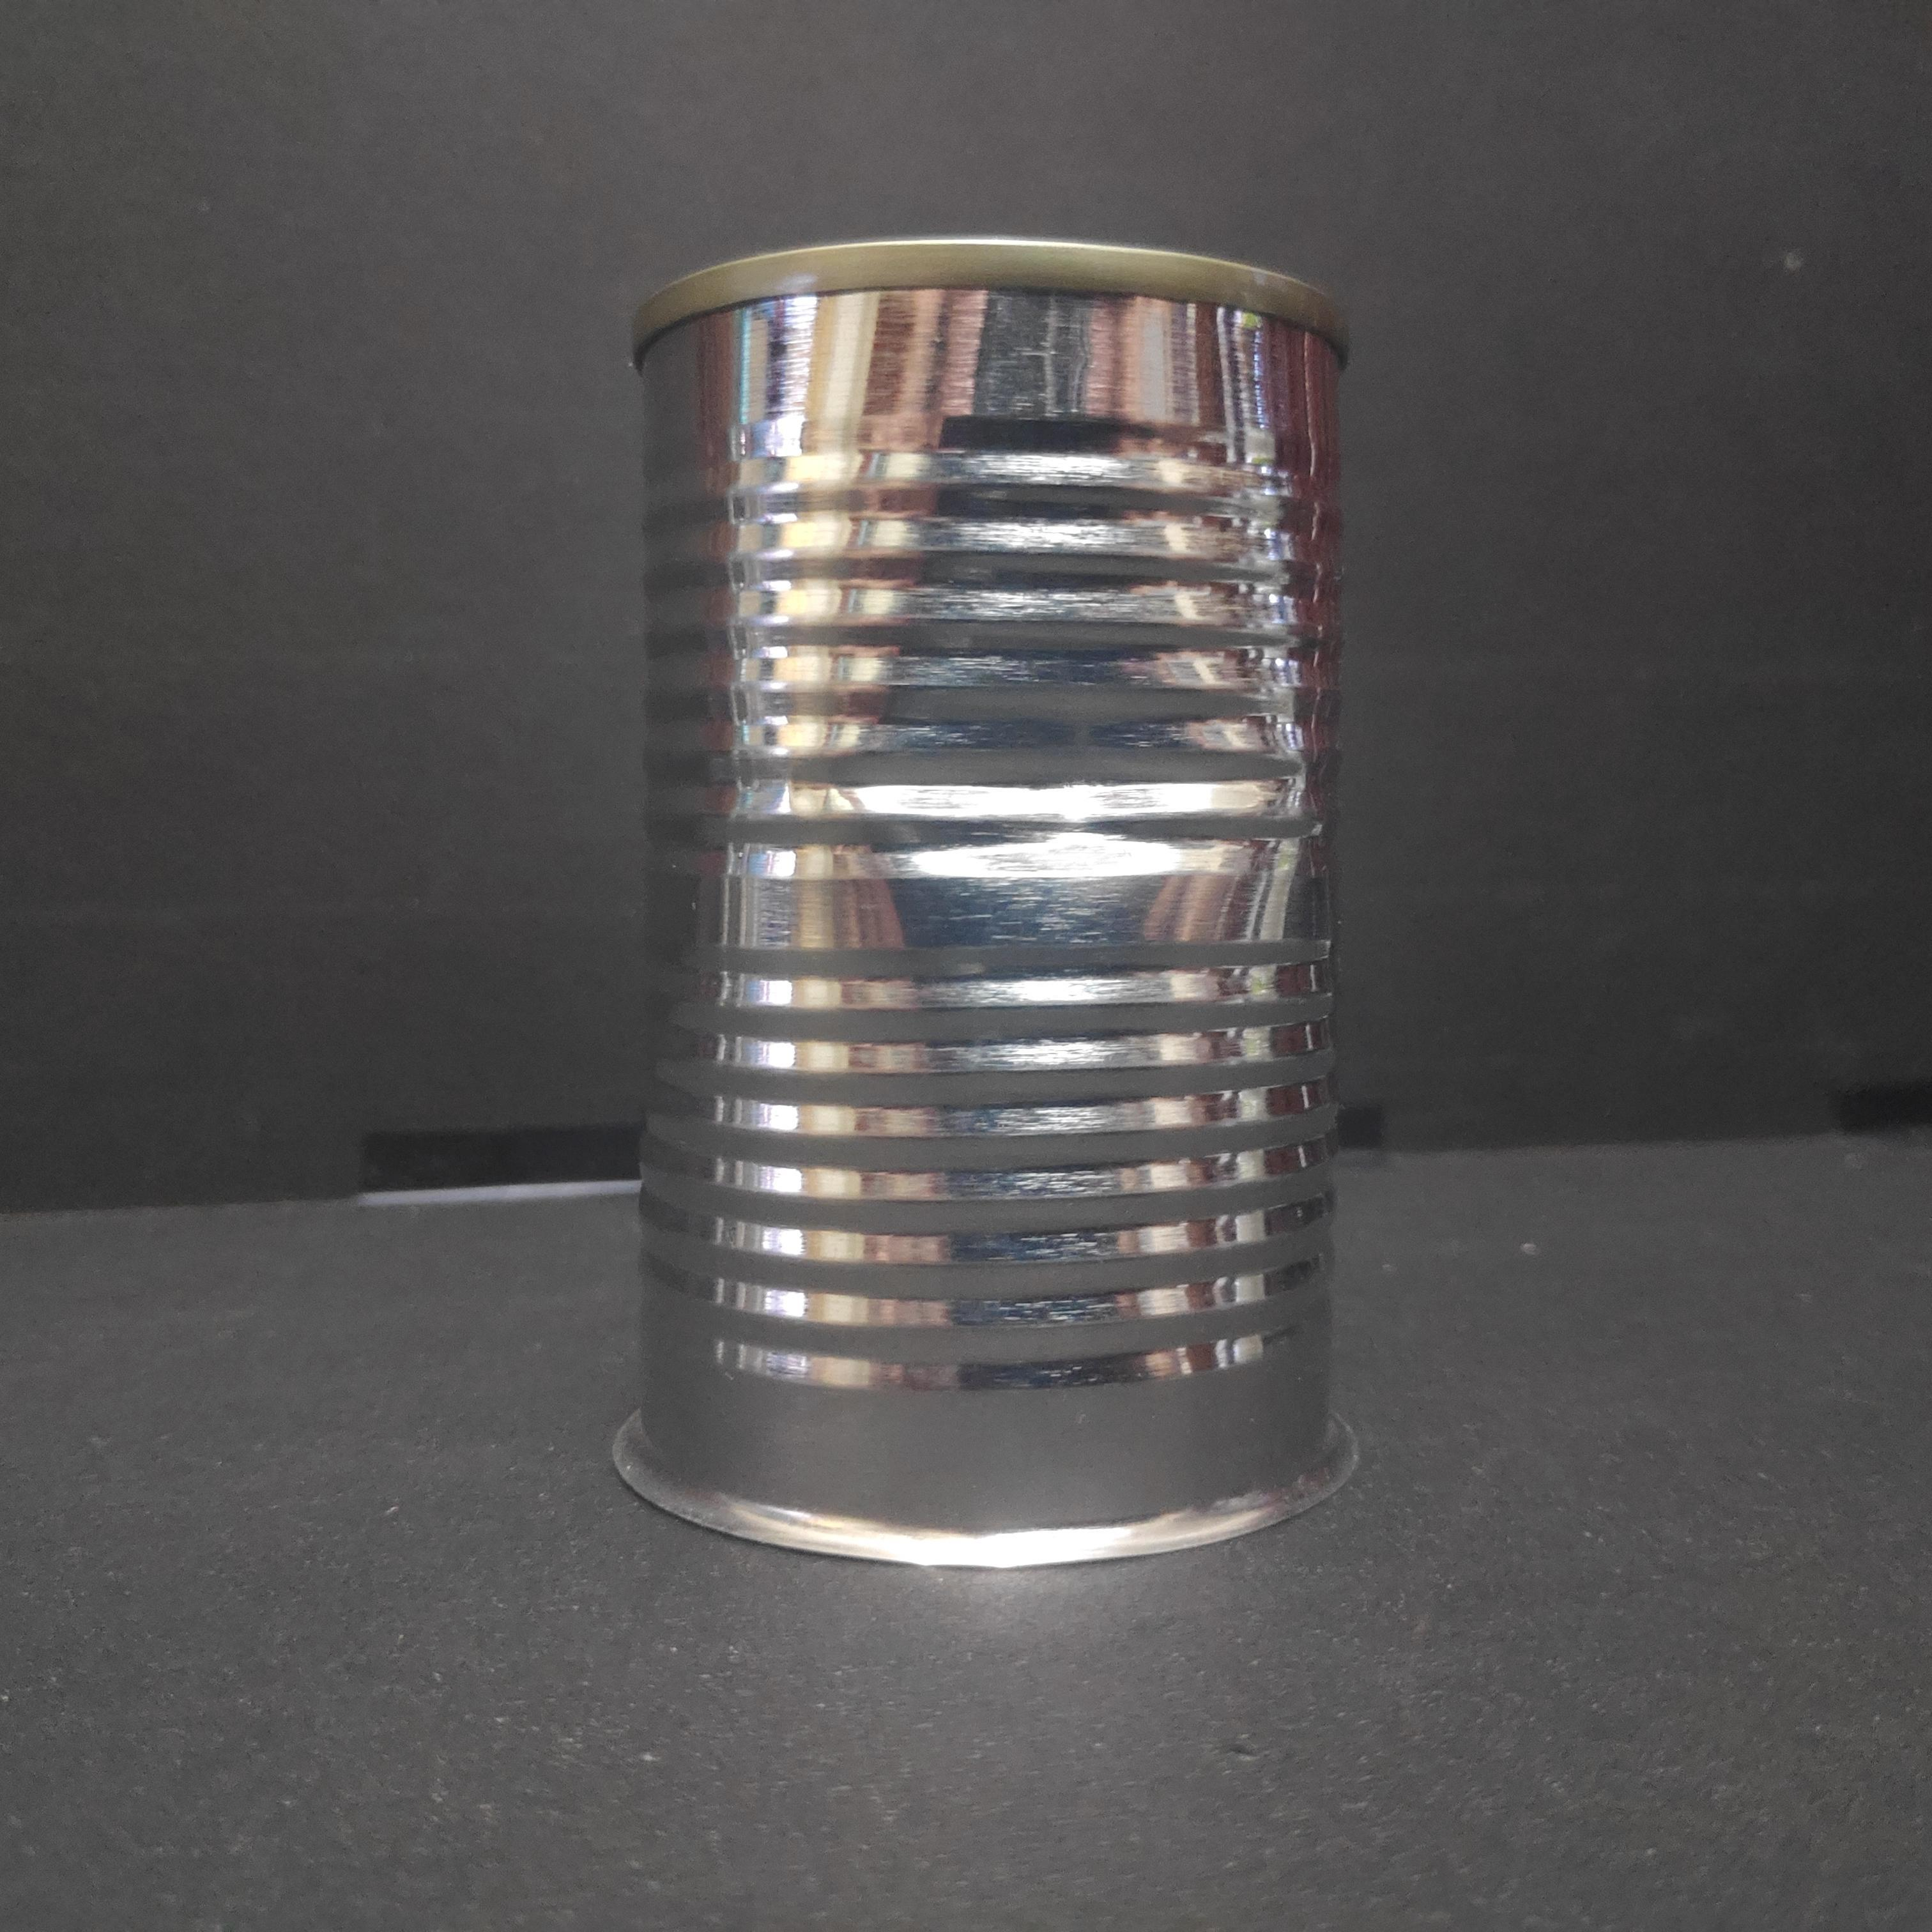Dented: (607, 211, 1368, 1587)
